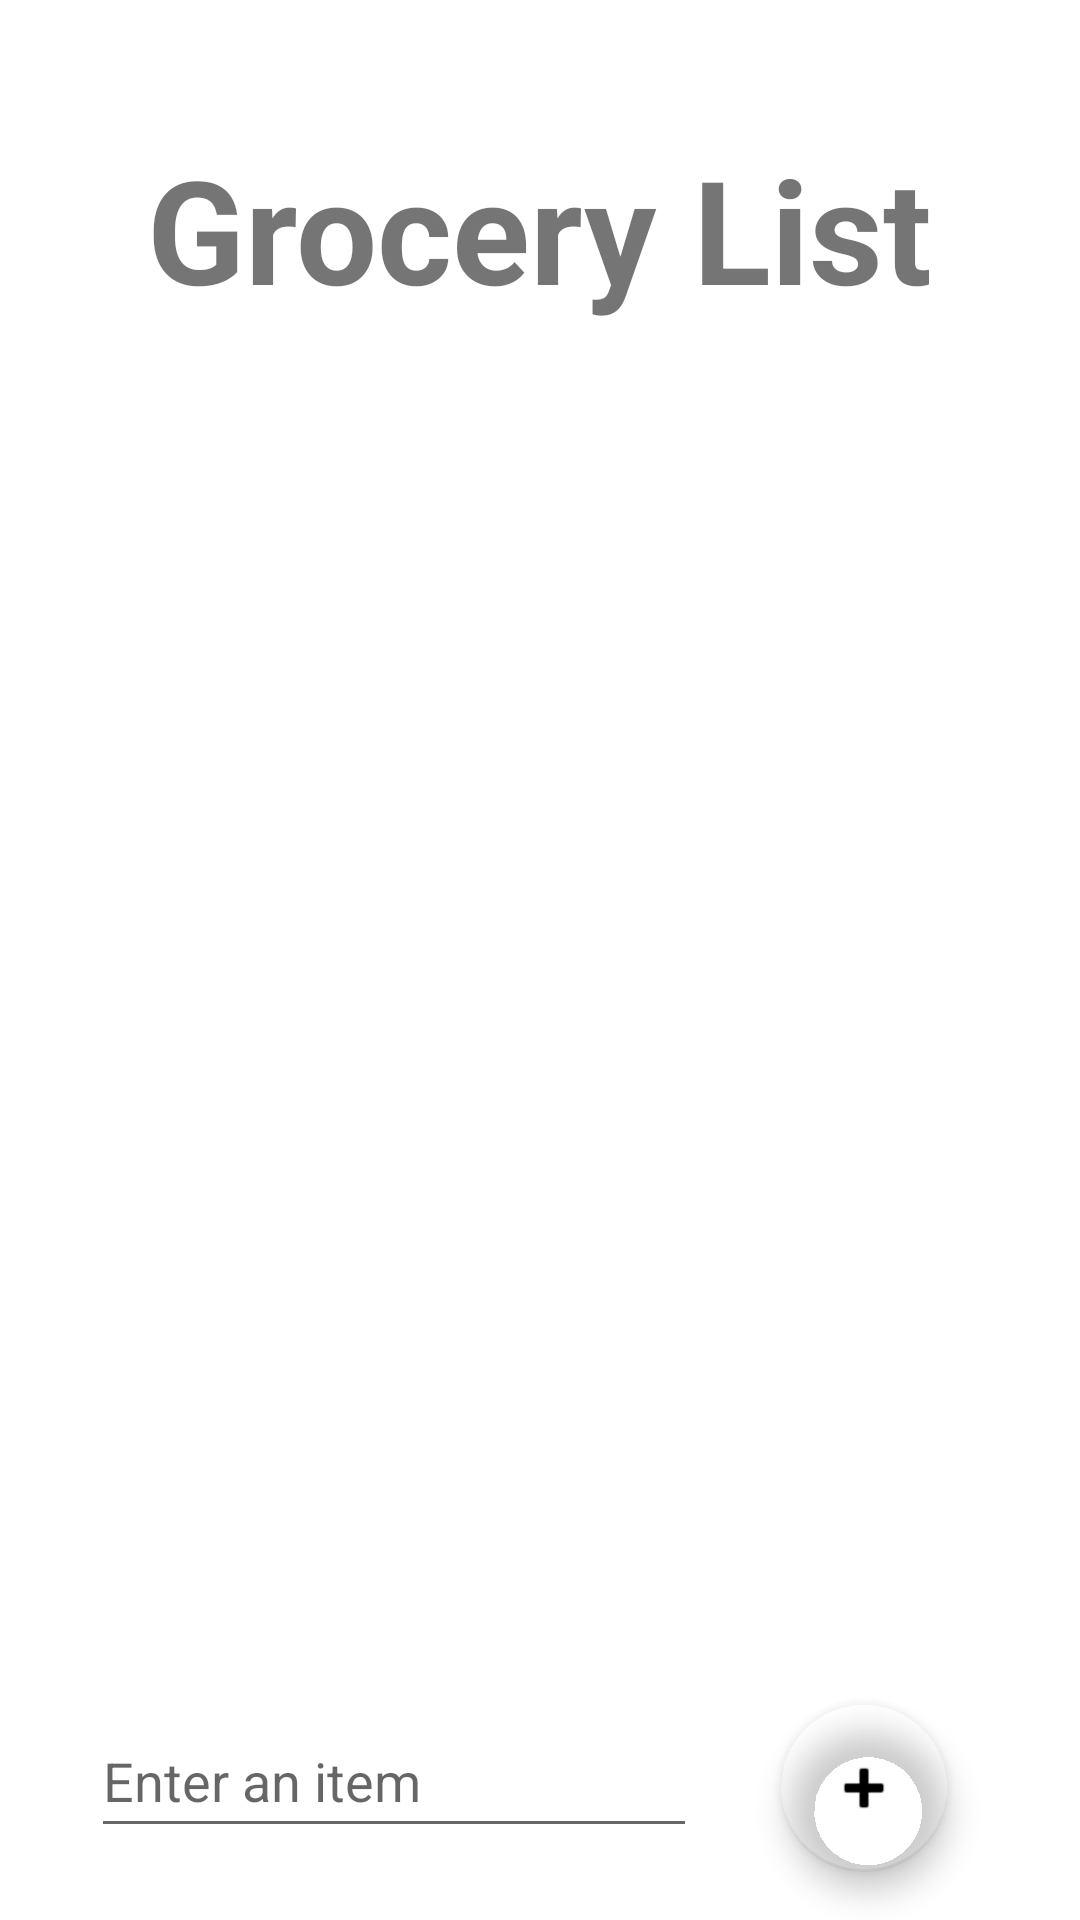

Icon bounding boxes for this 1080w x 1920h phone screenshot, format {"left": x1, "top": y1, "right": x2, "bottom": y2}:
add: {"left": 782, "top": 1734, "right": 948, "bottom": 1872}
